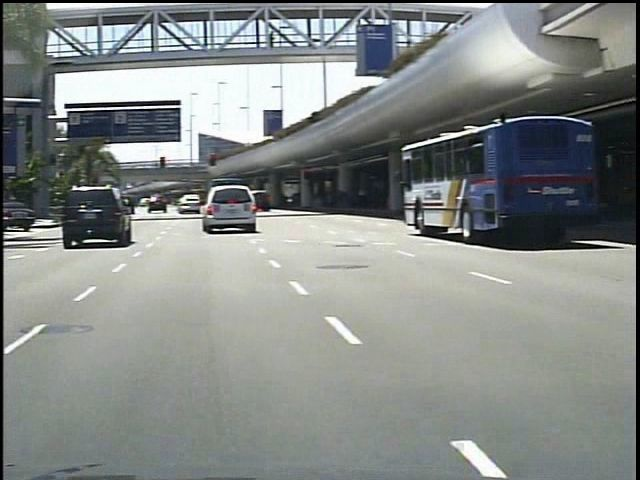person: (253, 29, 272, 54)
